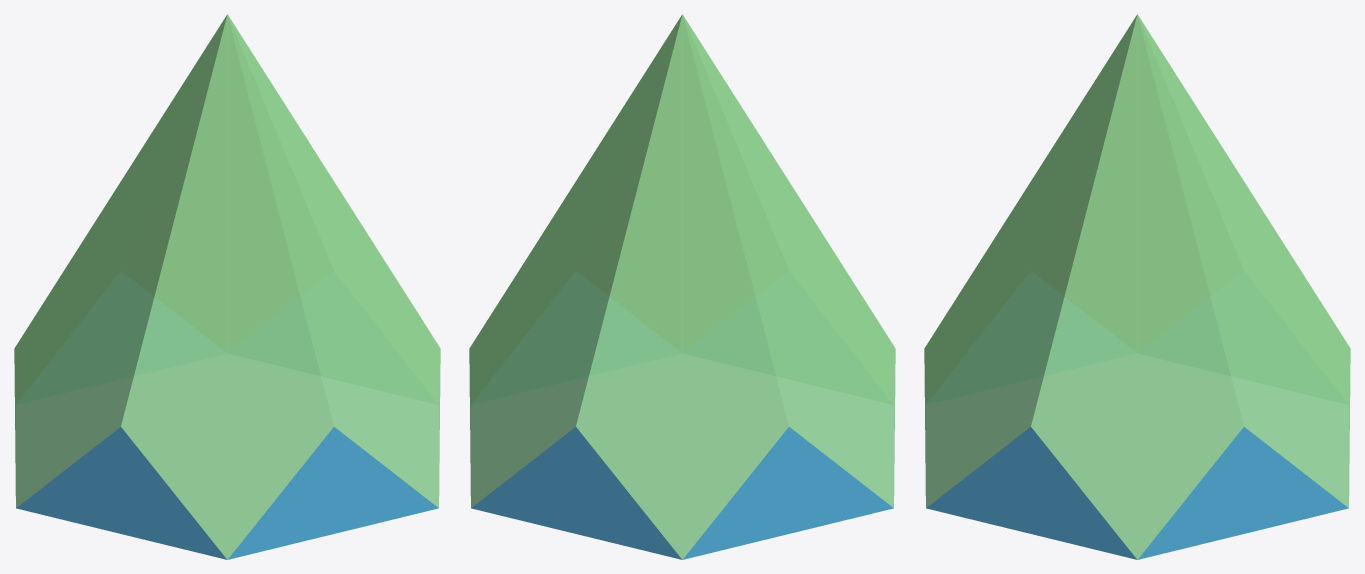
The model's file is pipa6.obj.
3 renders of one model, left to right at view 1: azimuth 30°, elevation 25°; view 2: azimuth 150°, elevation 25°; view 3: azimuth 270°, elevation 25°, orthographic.
Size of the model in its own units: 2 by 2 by 1.75.
